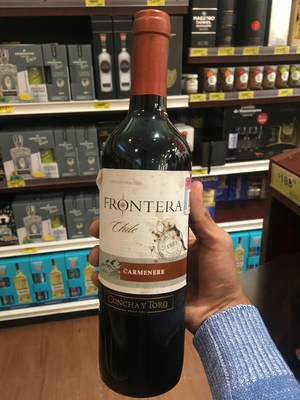frontera carmenere: (95, 14, 206, 377)
